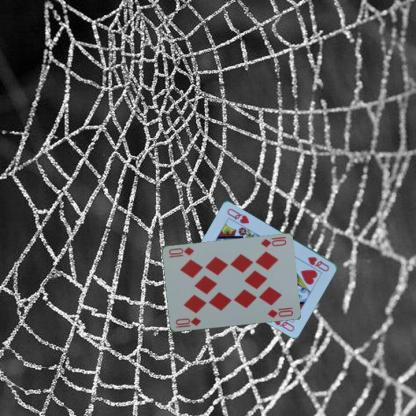10d: (172, 315, 202, 329), (258, 236, 287, 248)
Qh: (305, 254, 331, 272)
